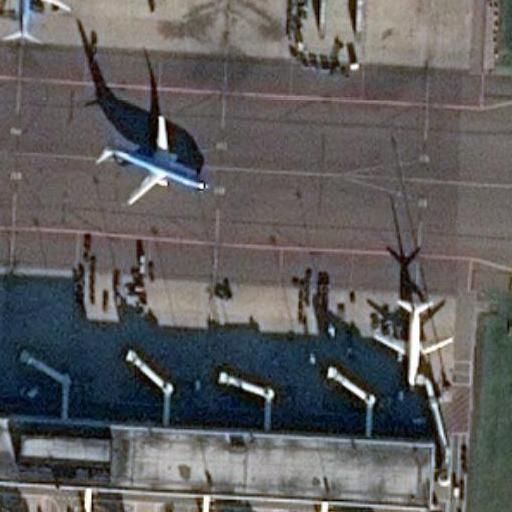Aircraft: (92, 110, 209, 206), (369, 290, 453, 385), (0, 0, 67, 44)
